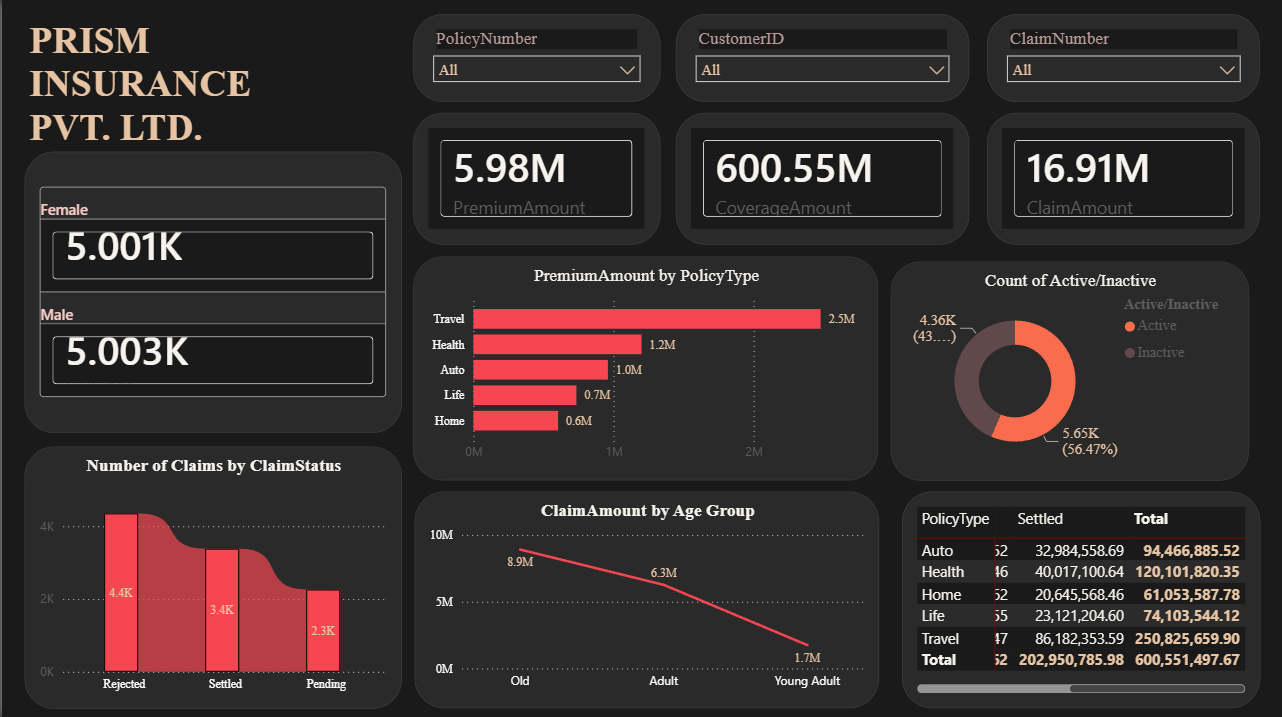

The dashboard page shown, as its layout file describes it:
{"tool":"powerbi","page":{"name":"Page 1","canvas":[1280,720],"ordinal":0},"visuals":[{"type":"slicer","fields":{"Values":["InsuranceData (2).PolicyNumber"]},"box":[411.7,15.1,247,87.8],"z":0},{"type":"slicer","fields":{"Values":["InsuranceData (2).ClaimNumber"]},"box":[985.3,15.1,273.1,87.8],"z":1000},{"type":"slicer","fields":{"Values":["InsuranceData (2).CustomerID"]},"box":[673.8,15.1,293.7,87.8],"z":2000},{"type":"textbox","box":[22,15.1,292.3,174.3],"z":3000},{"type":"cardVisual","fields":{"Data":["Sum(InsuranceData (2).PremiumAmount)"]},"box":[411.7,113.9,247,131.7],"z":4000},{"type":"cardVisual","fields":{"Data":["Sum(InsuranceData (2).CoverageAmount)"]},"box":[673.8,113.9,293.7,131.7],"z":5000},{"type":"cardVisual","fields":{"Data":["Sum(InsuranceData (2).ClaimAmount)"]},"box":[985.3,113.9,273.1,131.7],"z":6000},{"type":"cardVisual","fields":{"Rows":["InsuranceData (2).Gender"],"Data":["Sum(InsuranceData (2).Age)"]},"box":[22,152.3,377.4,281.3],"z":7000},{"type":"ribbonChart","title":"Number of Claims by ClaimStatus","fields":{"Category":["InsuranceData (2).ClaimStatus"],"Y":["CountNonNull(InsuranceData (2).ClaimStatus)"]},"box":[22,447.3,377.4,262.1],"z":8000},{"type":"clusteredBarChart","title":"PremiumAmount by PolicyType","fields":{"Category":["InsuranceData (2).PolicyType"],"Y":["Sum(InsuranceData (2).PremiumAmount)"]},"box":[411.7,258,465.2,223.7],"z":9000},{"type":"lineChart","title":" ClaimAmount by Age Group","fields":{"Y":["Sum(InsuranceData (2).ClaimAmount)"],"Category":["InsuranceData (2).AGE GROUP"]},"box":[413,492.6,465.2,216.8],"z":10000},{"type":"donutChart","title":"Count of Active/Inactive ","fields":{"Y":["CountNonNull(InsuranceData (2).Active/Inactive)"],"Category":["InsuranceData (2).Active/Inactive"]},"box":[889.2,262.1,358.1,219.6],"z":11000},{"type":"pivotTable","fields":{"Columns":["InsuranceData (2).ClaimStatus"],"Rows":["InsuranceData (2).PolicyType"],"Values":["Sum(InsuranceData (2).CoverageAmount)"]},"box":[889.2,492.6,369.1,216.8],"z":12000}]}

Visuals, with their boxes in screenshot pixels (x1, y1, x2, y2), scaled from the page's 1280x720 canvas onto the 1282x717 screenshot:
slicer - InsuranceData (2).PolicyNumber: detection(412, 15, 660, 102)
slicer - InsuranceData (2).ClaimNumber: detection(987, 15, 1260, 102)
slicer - InsuranceData (2).CustomerID: detection(675, 15, 969, 102)
textbox: detection(22, 15, 315, 189)
cardVisual - Sum(InsuranceData (2).PremiumAmount): detection(412, 113, 660, 245)
cardVisual - Sum(InsuranceData (2).CoverageAmount): detection(675, 113, 969, 245)
cardVisual - Sum(InsuranceData (2).ClaimAmount): detection(987, 113, 1260, 245)
cardVisual - InsuranceData (2).Gender x Sum(InsuranceData (2).Age): detection(22, 152, 400, 432)
"Number of Claims by ClaimStatus" ribbonChart: detection(22, 445, 400, 706)
"PremiumAmount by PolicyType" clusteredBarChart: detection(412, 257, 878, 480)
" ClaimAmount by Age Group" lineChart: detection(414, 491, 880, 706)
"Count of Active/Inactive " donutChart: detection(891, 261, 1249, 480)
pivotTable - InsuranceData (2).ClaimStatus x InsuranceData (2).PolicyType: detection(891, 491, 1260, 706)
